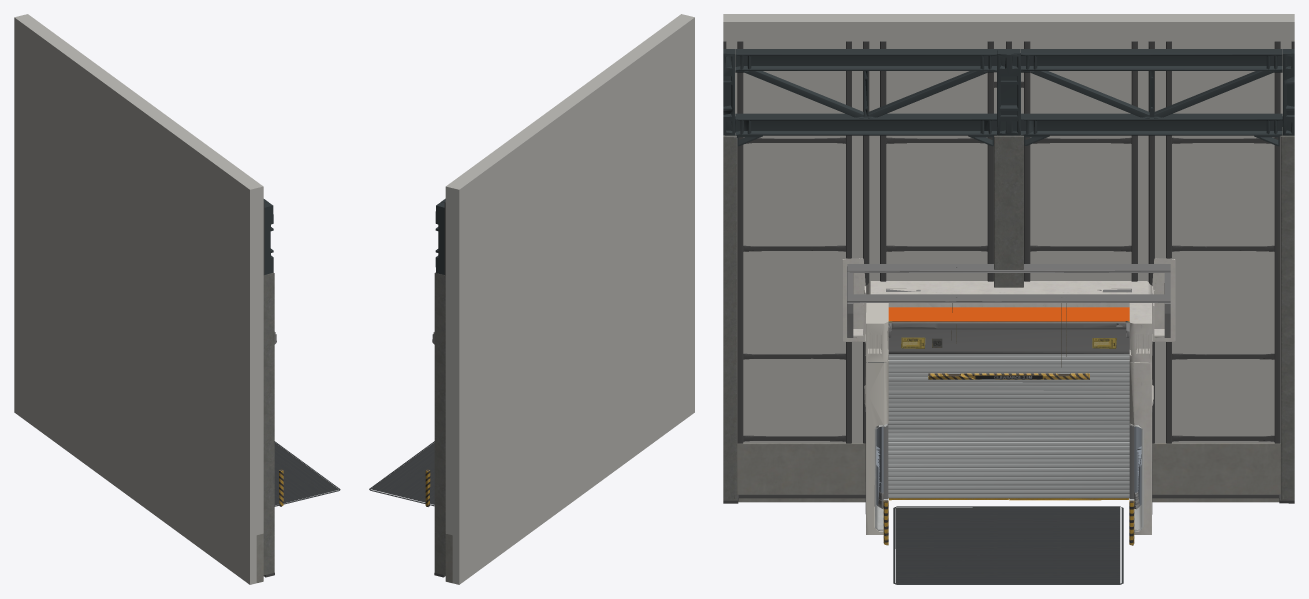
The model's file is dock_door.glb.
The picture shows the model from 3 angles, left to right: view 1: azimuth 30°, elevation 25°; view 2: azimuth 150°, elevation 25°; view 3: azimuth 270°, elevation 25°; orthographic projection. The views are drawn at different scales.
Parts seen in each view (by area): view 1: dock_door_mesh; view 2: dock_door_mesh; view 3: dock_door_mesh.
Part boxes in pixels (bbox=[...]): dock_door_mesh: bbox=[14, 14, 340, 584]; dock_door_mesh: bbox=[369, 14, 694, 584]; dock_door_mesh: bbox=[723, 14, 1294, 584].
Size of the model in its own units: 4.77 by 11.1 by 12.
19 materials, 8 textured.
